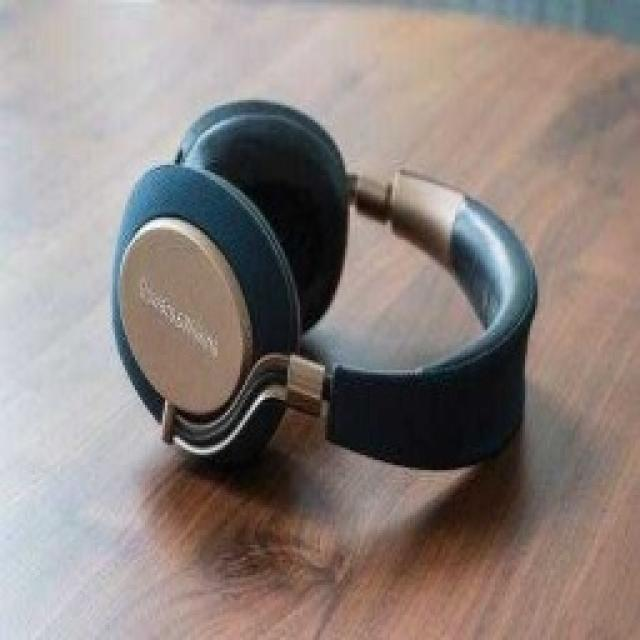headphones: (108, 95, 538, 470)
